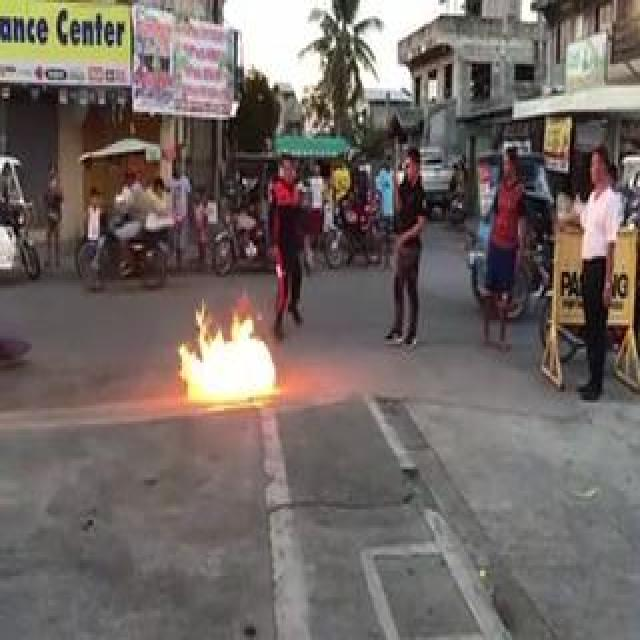Smoke: (177, 307, 277, 405)
